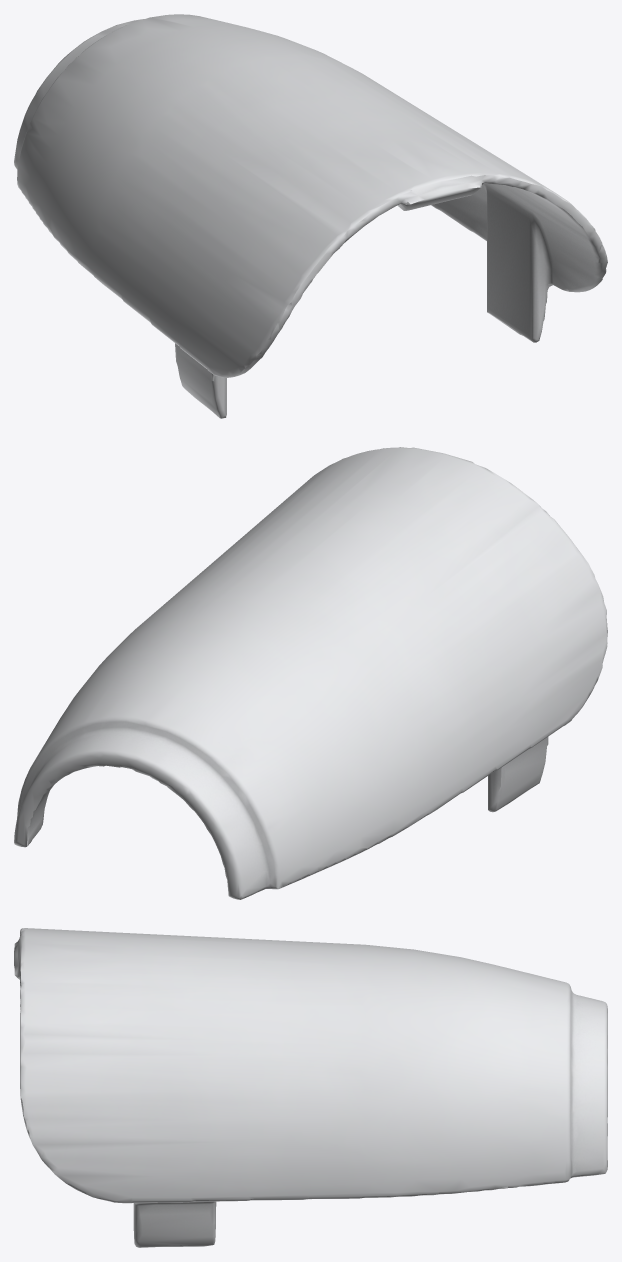
The model's file is left_forarm_cover.obj.
3 renders of one model, top to bottom at view 1: azimuth 30°, elevation 25°; view 2: azimuth 150°, elevation 25°; view 3: azimuth 270°, elevation 25°, orthographic. The views are drawn at different scales.
Visible parts, largest first — view 1: left_forarm_cover; view 2: left_forarm_cover; view 3: left_forarm_cover.
Part boxes in pixels (x1=…): left_forarm_cover: x1=14, y1=14, x2=607, y2=418; left_forarm_cover: x1=14, y1=447, x2=607, y2=899; left_forarm_cover: x1=14, y1=928, x2=607, y2=1247.
Size of the model in its own units: 0.0704 by 0.0464 by 0.1086.
Materials: 1 (1 with a texture image).
